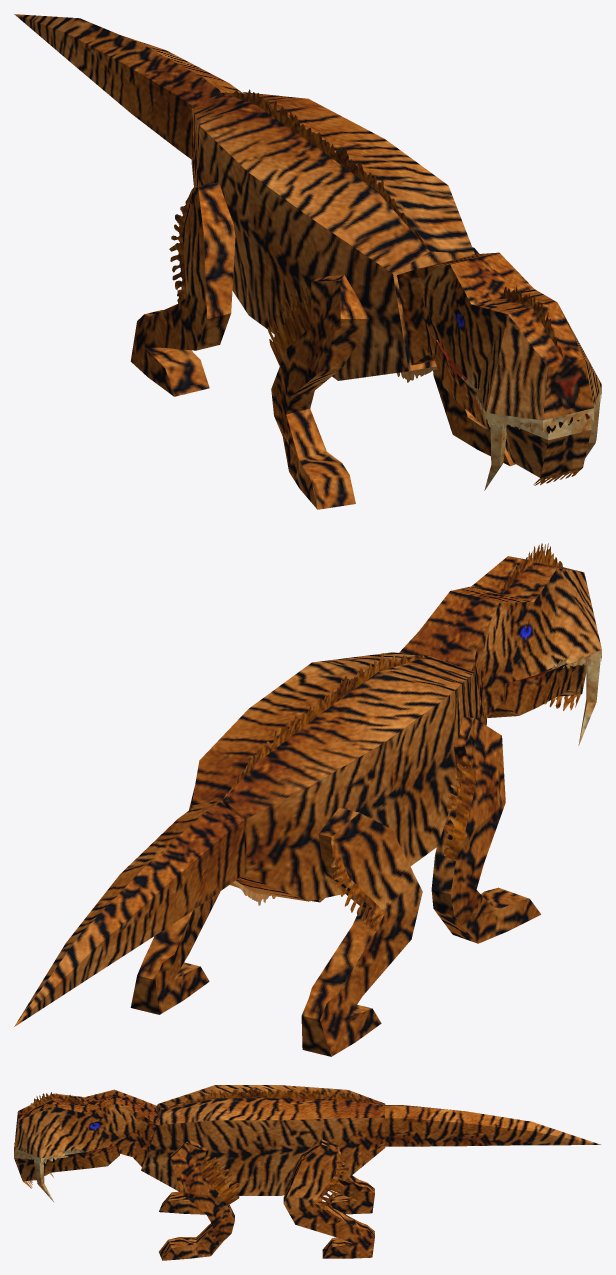
The model's file is barghest.obj.
3 renders of one model, top to bottom at view 1: azimuth 30°, elevation 25°; view 2: azimuth 150°, elevation 25°; view 3: azimuth 270°, elevation 25°, orthographic. The views are drawn at different scales.
Visible parts, largest first — view 1: Body, Head, LegRightFront, LegRightBack, Tail, Mouth, LegLeftFront; view 2: Body, Head, LegRightBack, Tail, LegRightFront, LegLeftBack, Mouth; view 3: Body, Head, Tail, LegLeftBack, LegLeftFront, Mouth, LegRightBack, LegRightFront.
Boxes of the visible parts, x1,y1,x2,y2 form: Body: (191,89,474,382); Head: (397,252,601,490); LegRightFront: (267,275,369,509); LegRightBack: (130,182,235,396); Tail: (14,14,241,159); Mouth: (434,340,591,485); LegLeftFront: (433,247,515,466); Body: (191,652,486,905); Head: (399,543,601,746); LegRightBack: (301,807,422,1056); Tail: (14,802,244,1026); LegRightFront: (431,717,540,943); LegLeftBack: (130,786,220,1014); Mouth: (488,653,586,717); Body: (141,1085,385,1195); Head: (15,1089,159,1202); Tail: (381,1105,600,1146); LegLeftBack: (283,1139,374,1258); LegLeftFront: (159,1140,240,1260); Mouth: (14,1139,119,1188); LegRightBack: (325,1175,374,1214); LegRightFront: (159,1191,205,1214).
Bounding box in the file's own units: 1.18 × 1.37 × 5.07.
